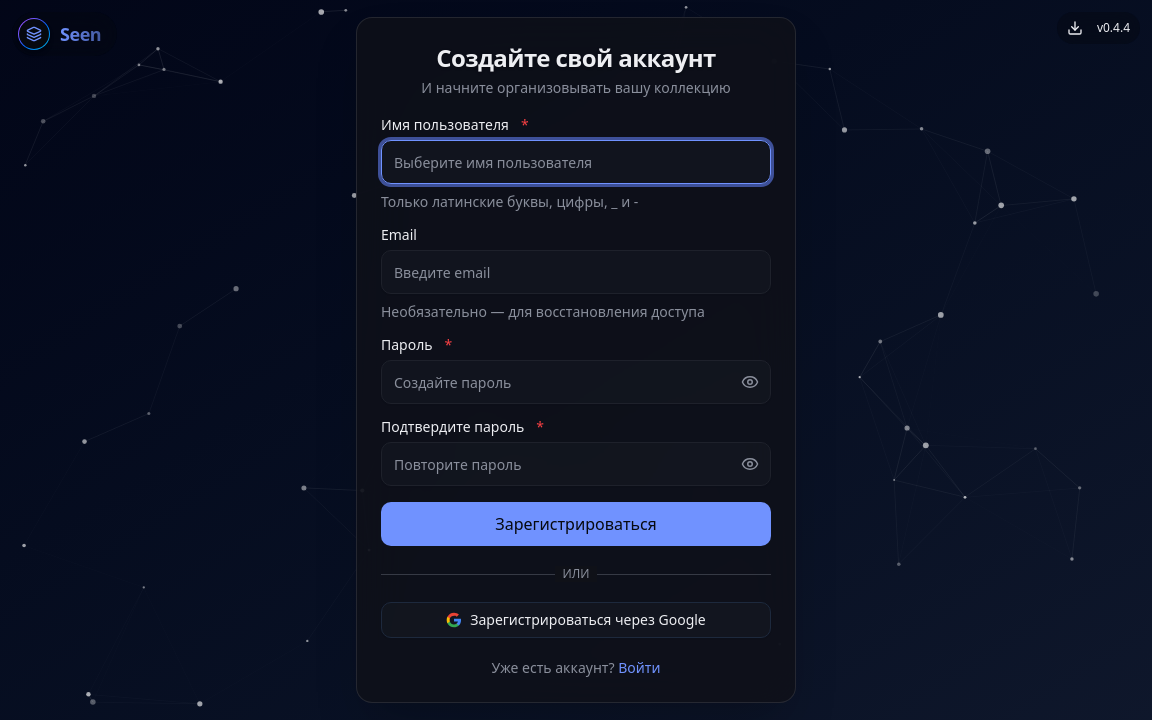
it: RegisterPage › should display error on API failure
Type "takenuser" into the field labelled "Имя пользователя *" at (576,162), box top-left (381, 140), bottom-right (771, 184)
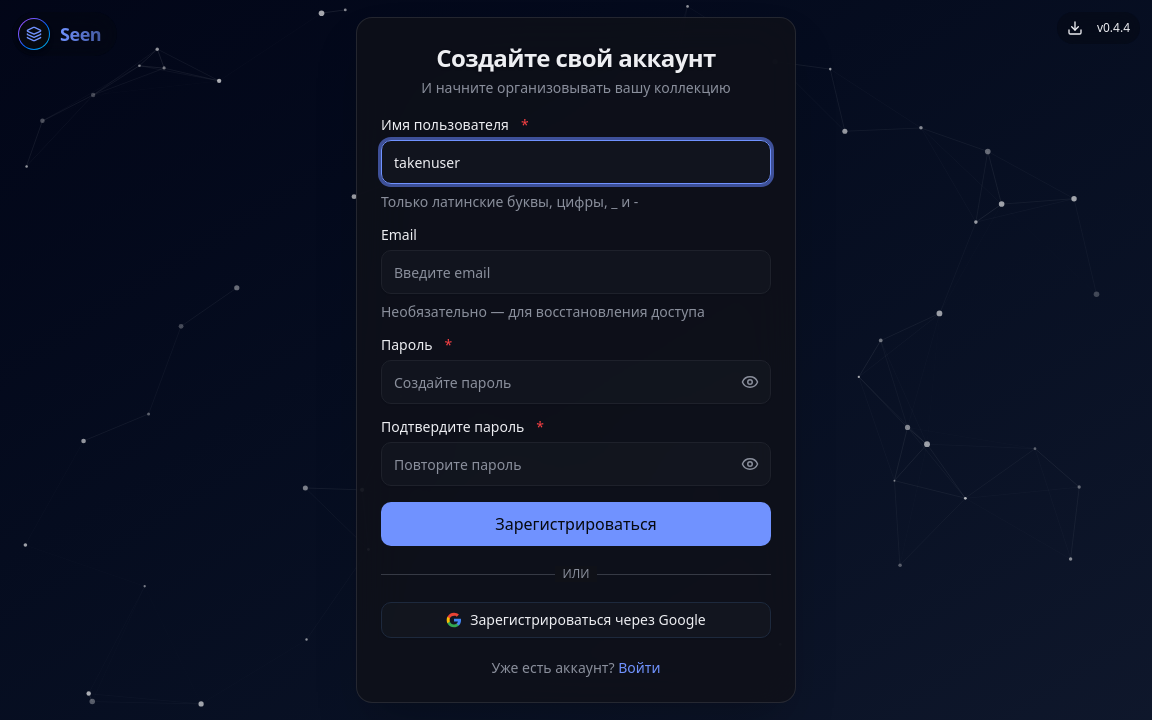
Type "taken@example.com" into the field labelled "Email" at (576,272), box top-left (381, 250), bottom-right (771, 294)
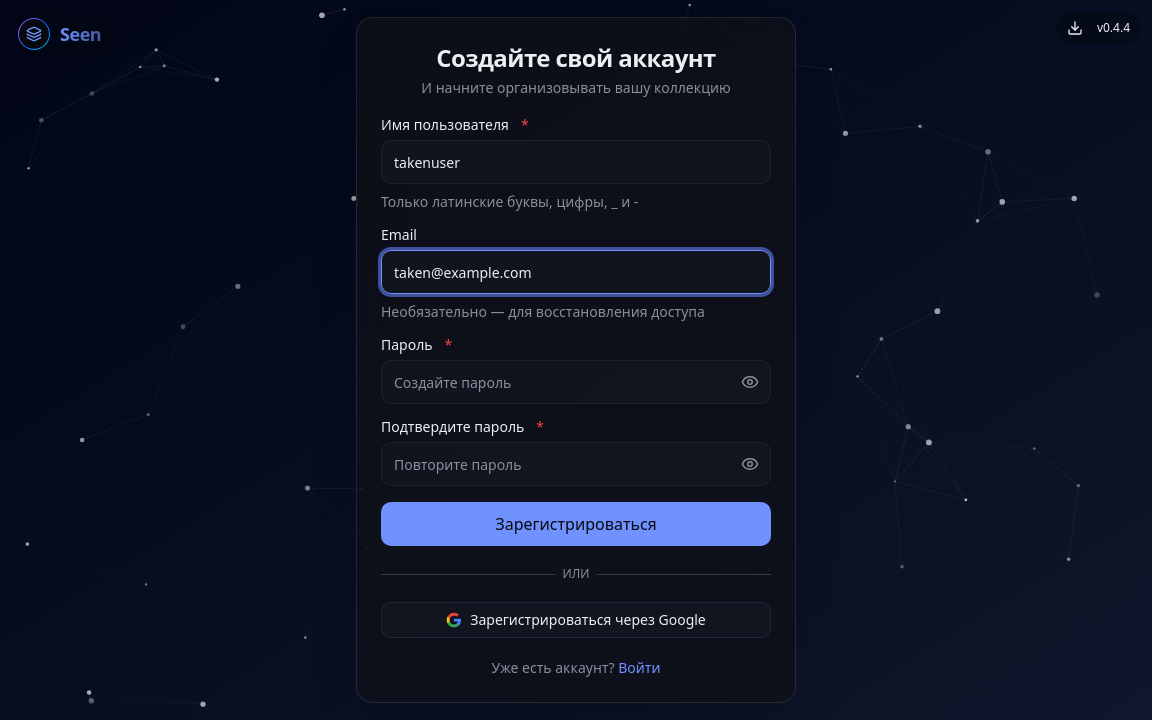
Type "password123" into the password field labelled "Пароль *" at (576,382), box top-left (381, 360), bottom-right (771, 404)
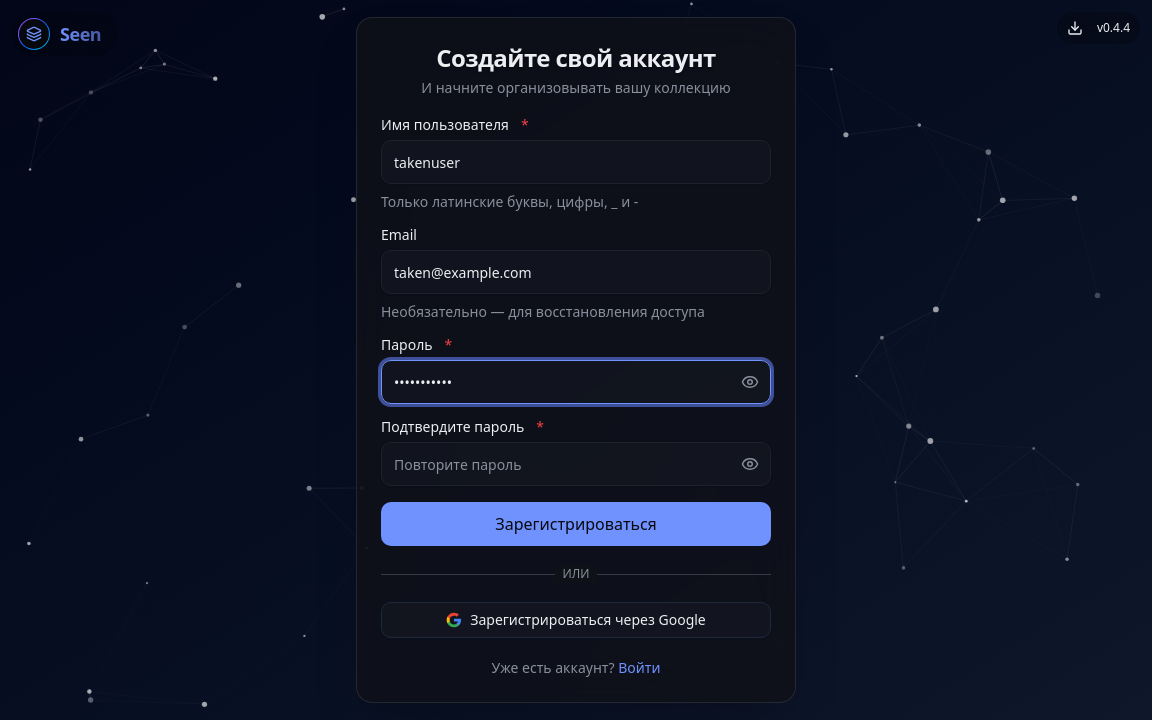
Type "password123" into the password field labelled "Подтвердите пароль *" at (576,464), box top-left (381, 442), bottom-right (771, 486)
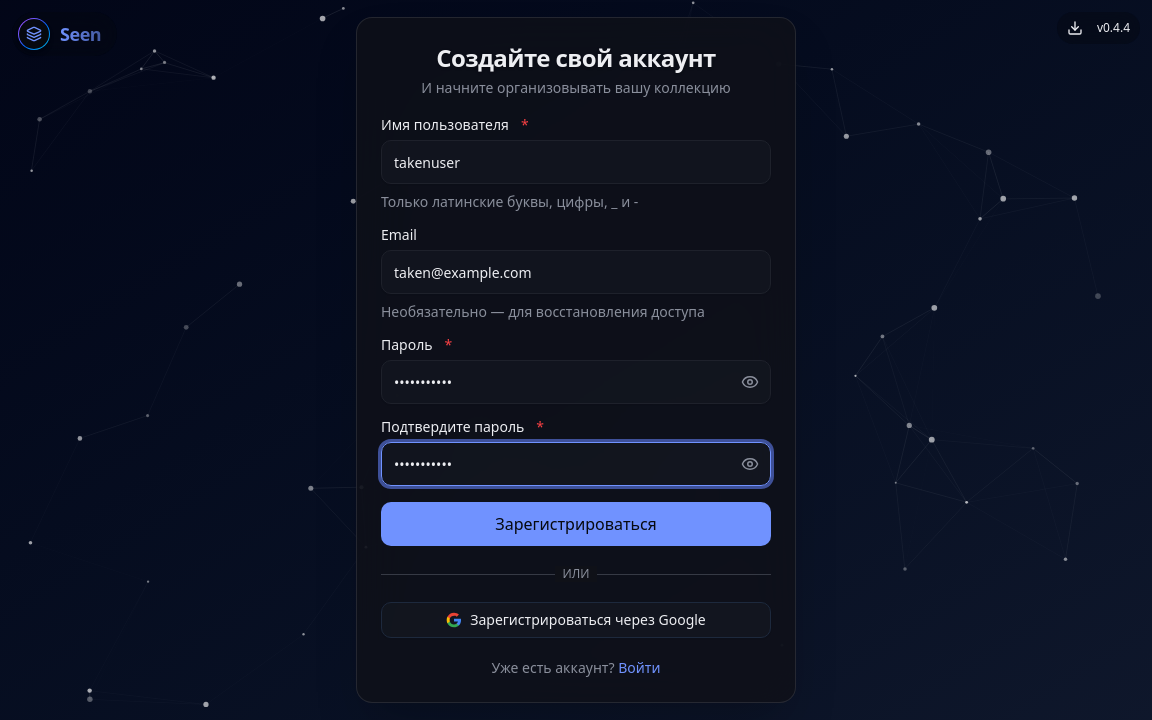
Click the button "Зарегистрироваться" at (576,524), box top-left (381, 502), bottom-right (771, 546)
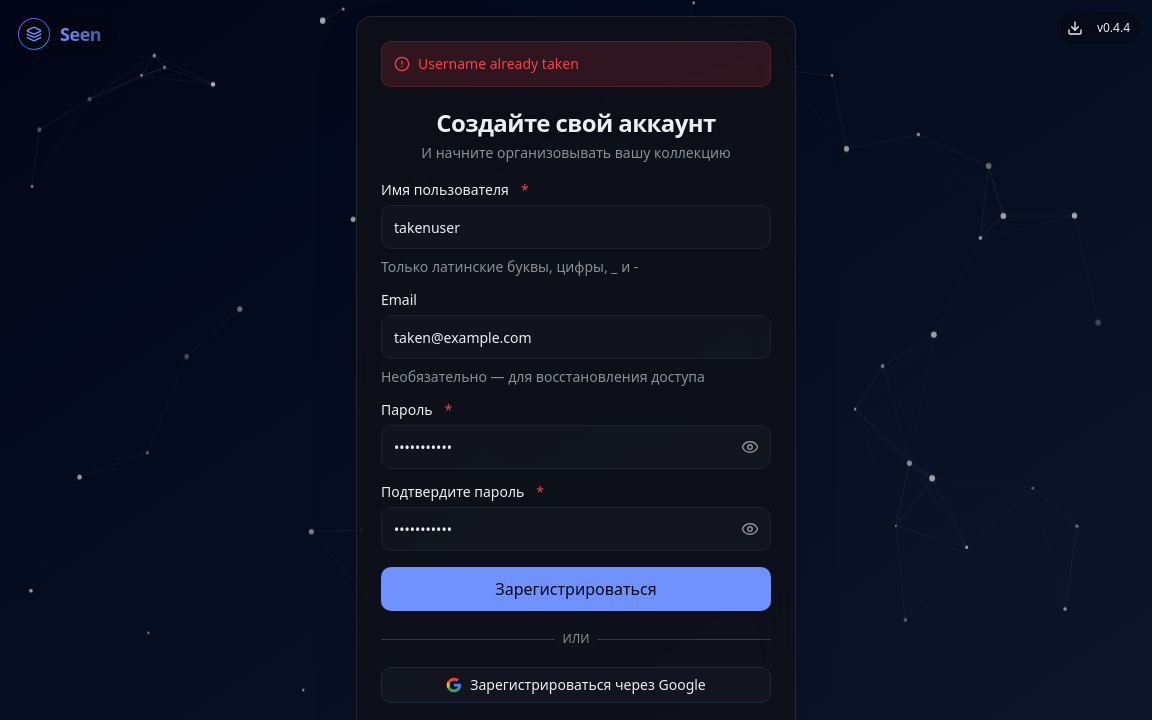
Expected: the text "Username already taken" is shown, top-left (418, 54), bottom-right (579, 74)
